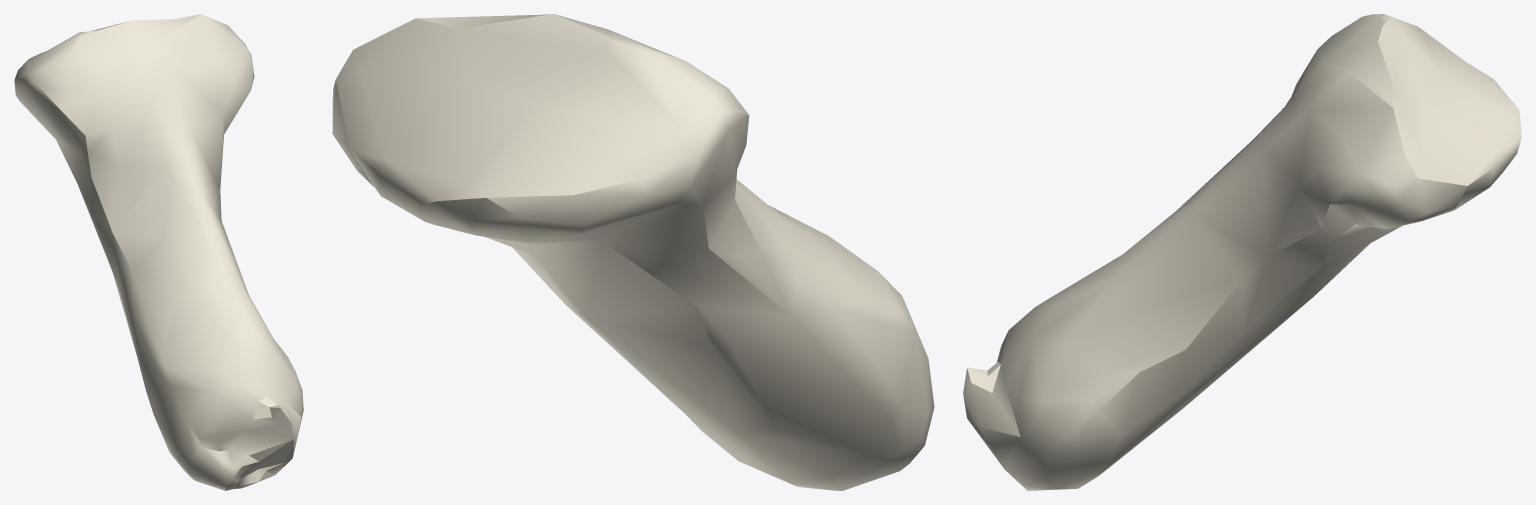
The model's file is fma23959.glb.
3 renders of one model, left to right at view 1: azimuth 30°, elevation 25°; view 2: azimuth 150°, elevation 25°; view 3: azimuth 270°, elevation 25°, orthographic. The views are drawn at different scales.
Visible parts, largest first — view 1: FMA23959; view 2: FMA23959; view 3: FMA23959.
Part boxes in pixels (<box>): FMA23959: <box>14,14,303,490</box>; FMA23959: <box>332,14,934,490</box>; FMA23959: <box>963,14,1521,490</box>.
Size of the model in its own units: 0.0083 by 0.0127 by 0.0141.
